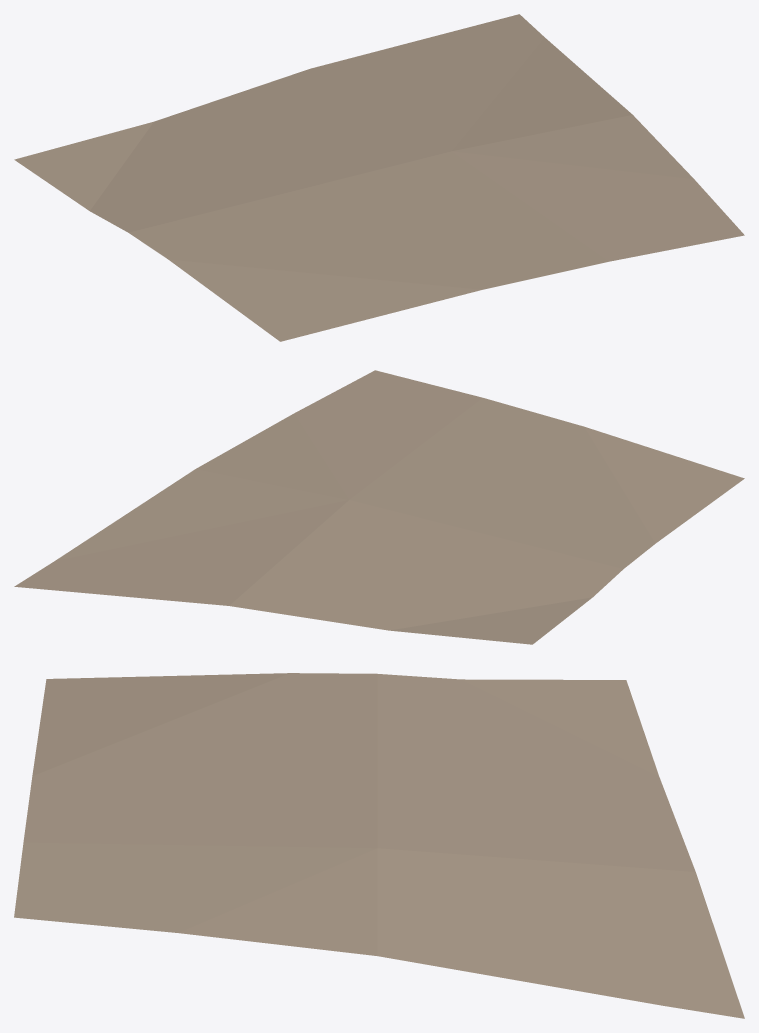
Rendered from farm_-11_9_soil.glb.
3 views of the same model, one above another, from view 1: azimuth 30°, elevation 25°; view 2: azimuth 150°, elevation 25°; view 3: azimuth 270°, elevation 25° (orthographic). The views are drawn at different scales.
Visible parts, largest first — view 1: geometry_0; view 2: geometry_0; view 3: geometry_0.
Boxes of the visible parts, x1,y1,x2,y2 form: geometry_0: [14, 14, 744, 341]; geometry_0: [14, 370, 744, 644]; geometry_0: [14, 673, 744, 1018].
Size of the model in its own units: 115 by 8.65 by 116.
